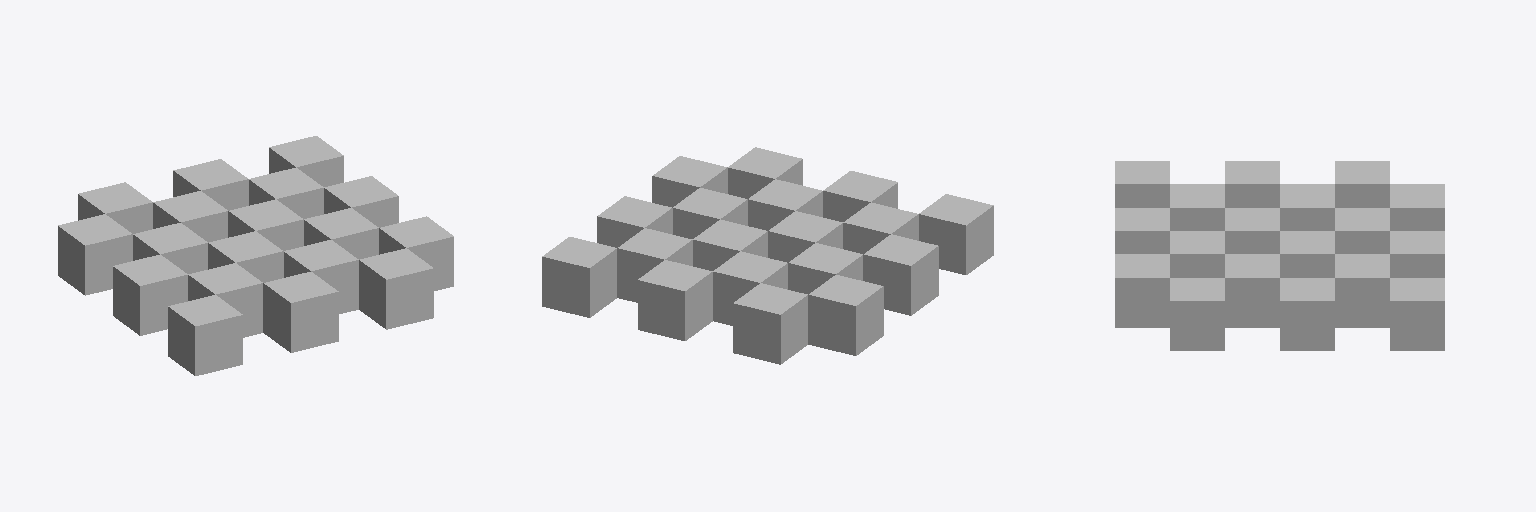
The model's file is Grate U.obj.
3 renders of one model, left to right at view 1: azimuth 30°, elevation 25°; view 2: azimuth 150°, elevation 25°; view 3: azimuth 270°, elevation 25°, orthographic.
Visible parts, largest first — view 1: object 1; view 2: object 1; view 3: object 1.
Boxes of the visible parts, box(x1,y1,x2,y2) form: object 1: box(58, 136, 453, 375); object 1: box(542, 147, 993, 364); object 1: box(1115, 161, 1444, 350).
Size of the model in its own units: 0.6 by 0.1 by 0.6.